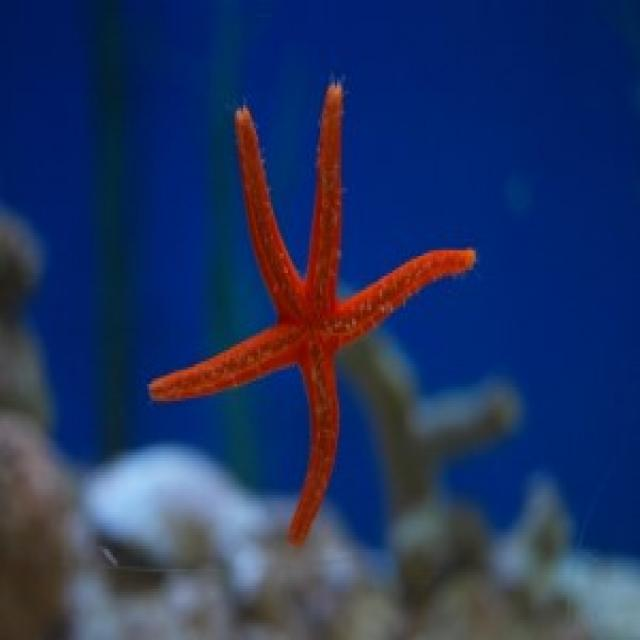Starfish: (146, 74, 484, 556)
